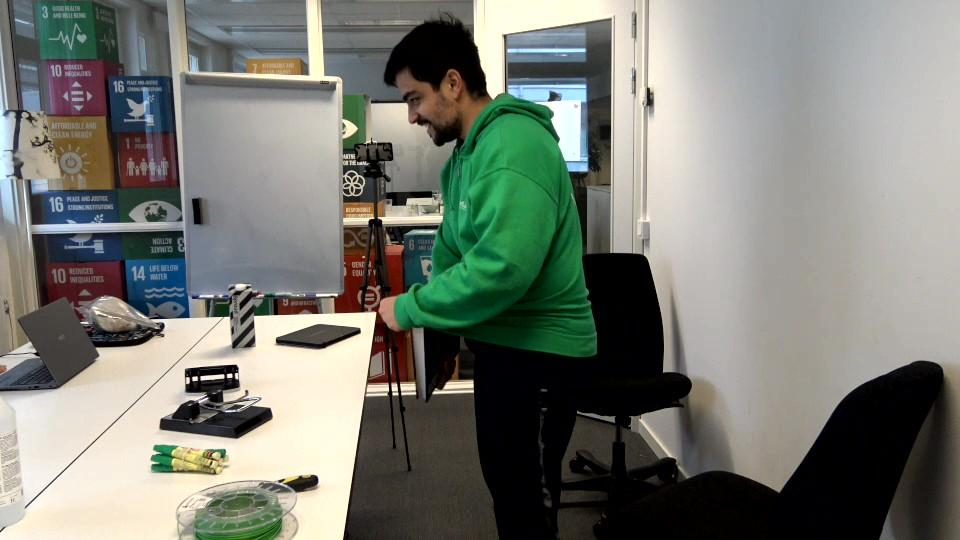shoplifting: (383, 19, 597, 540)
